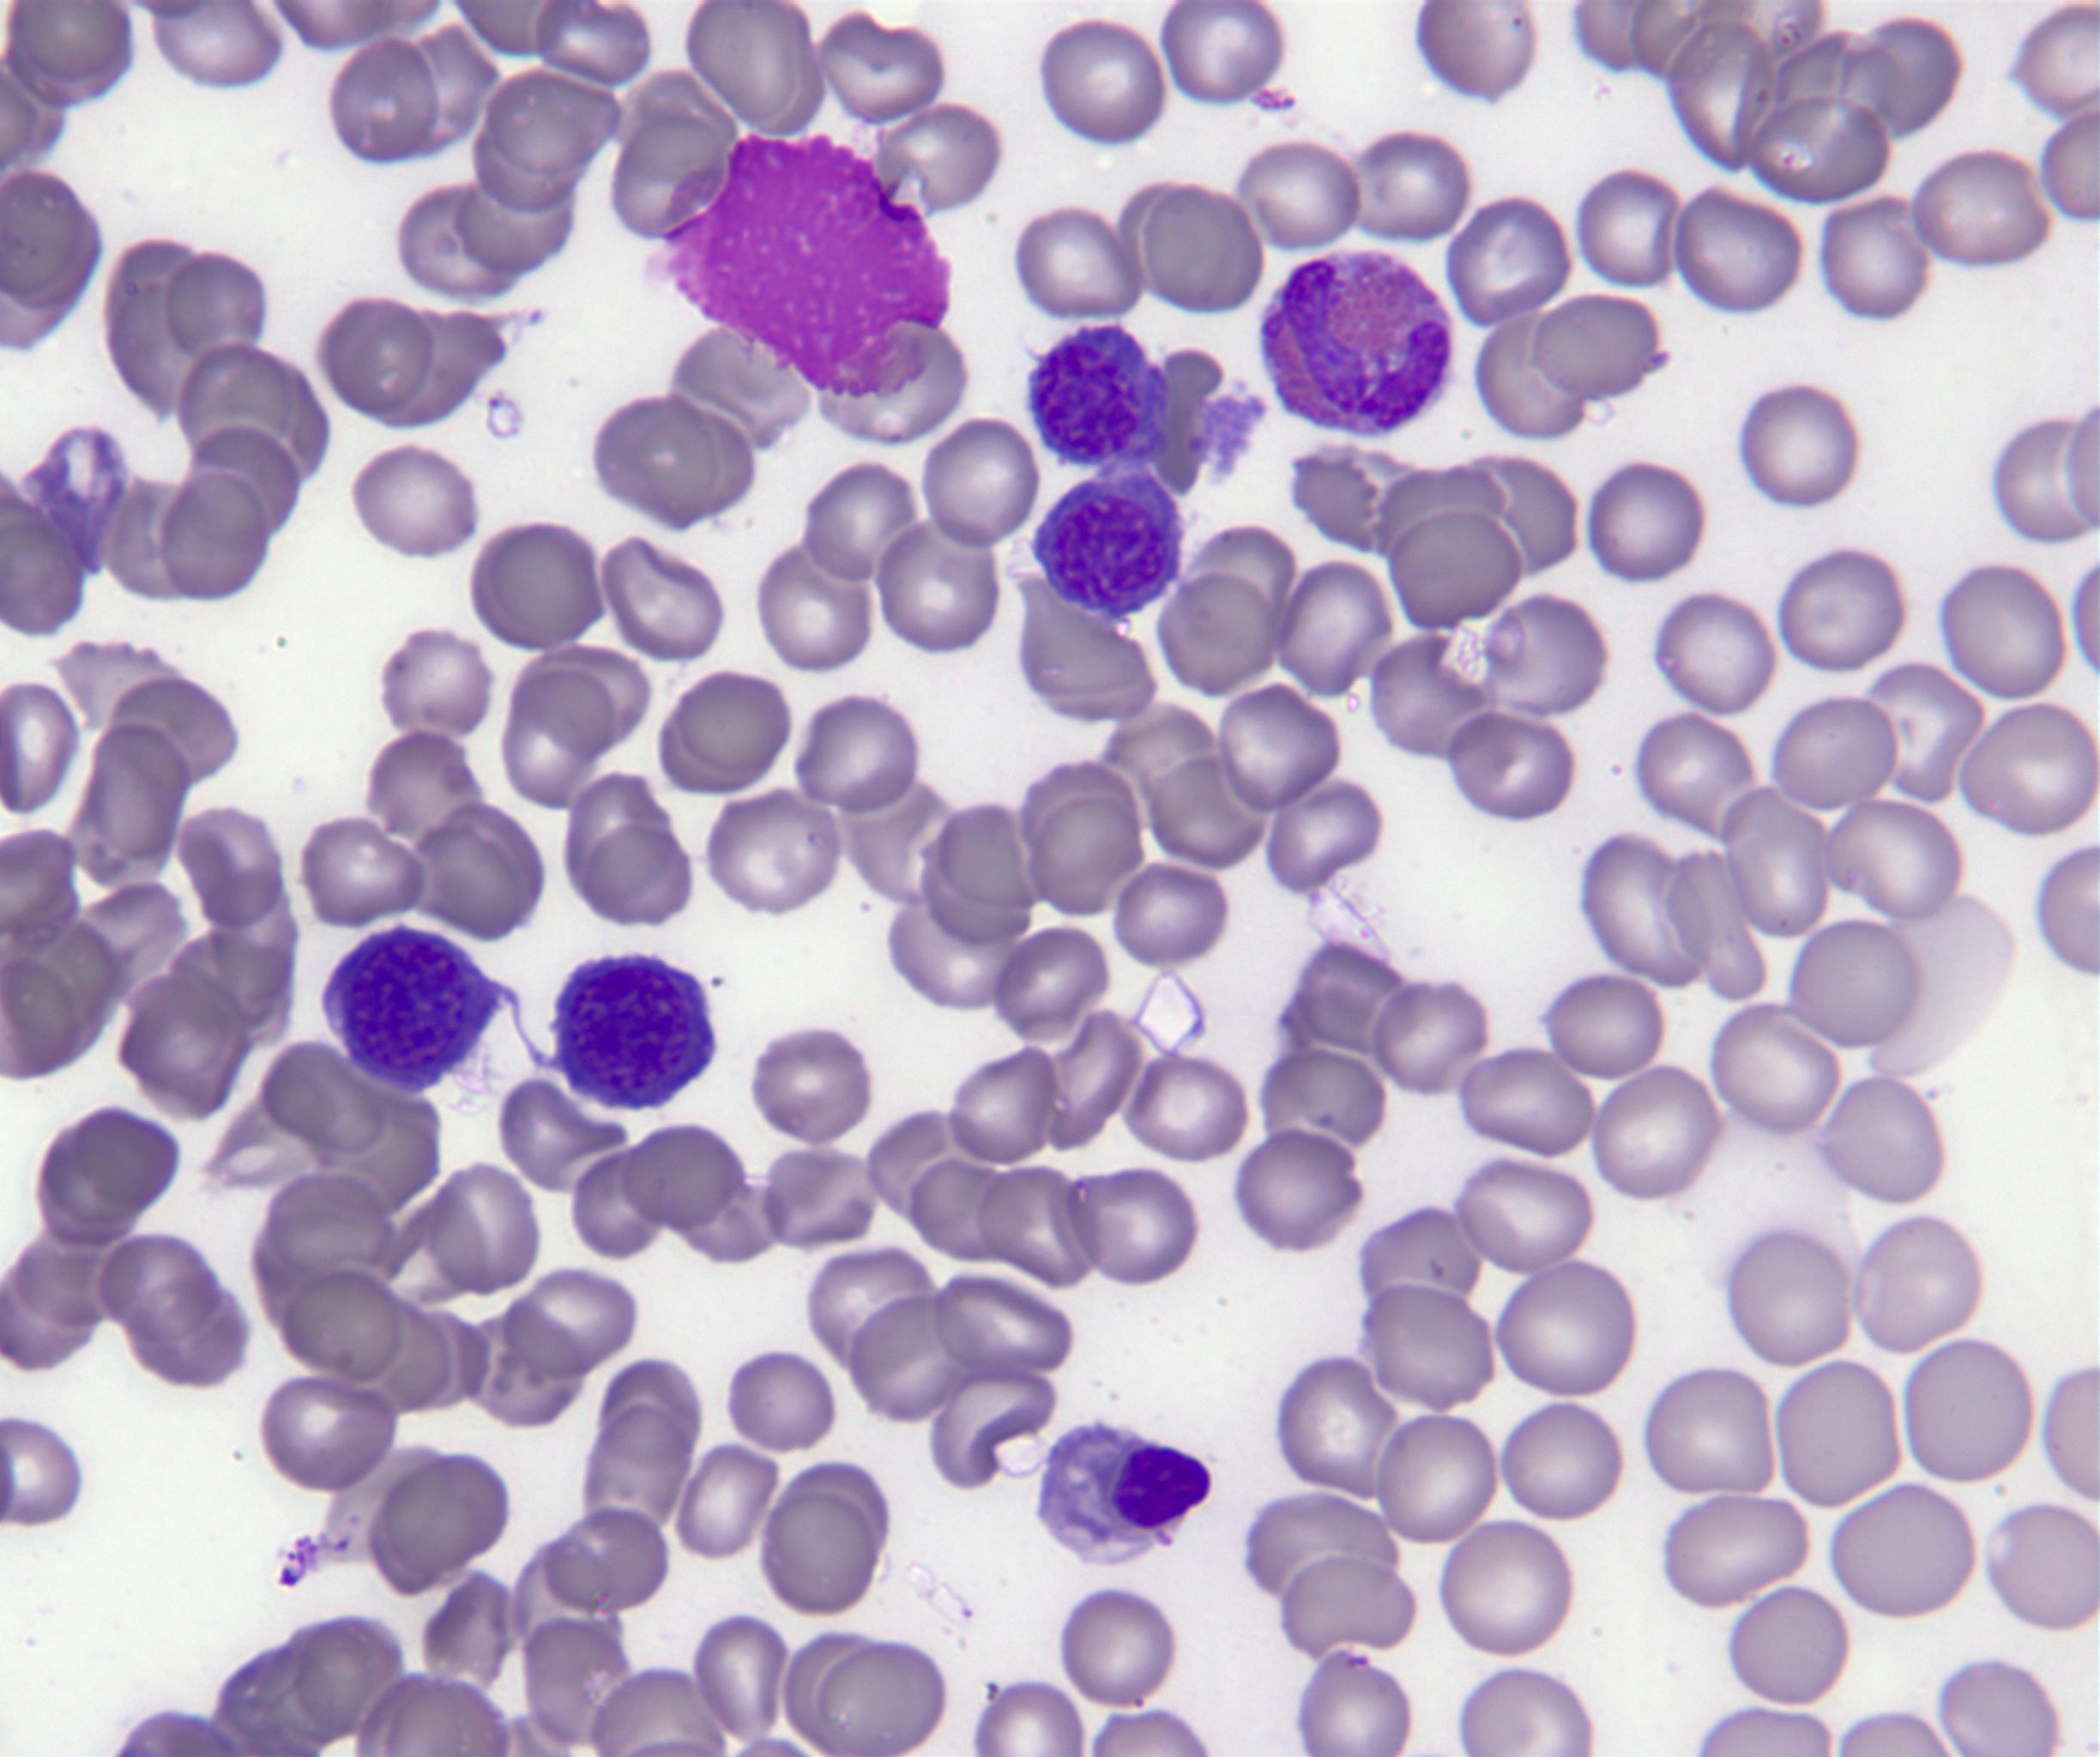23: (319, 923, 492, 1094), (556, 951, 722, 1113), (1036, 478, 1186, 623), (1026, 325, 1172, 469)
24: (1040, 1415, 1214, 1567)
E4: (1258, 253, 1458, 440)
